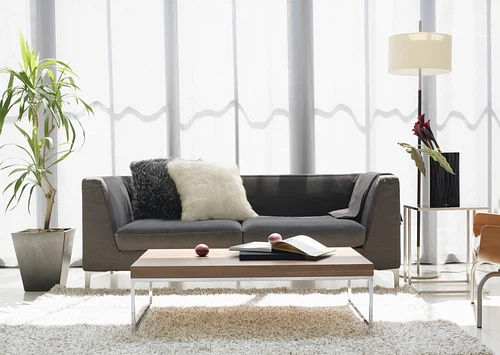chair: (470, 211, 500, 329)
floor lamp: (386, 18, 454, 281)
large plant: (0, 33, 92, 292)
sofa: (77, 155, 405, 333)
table: (128, 246, 376, 335)
